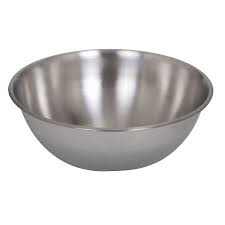bowl: (6, 46, 217, 174)
